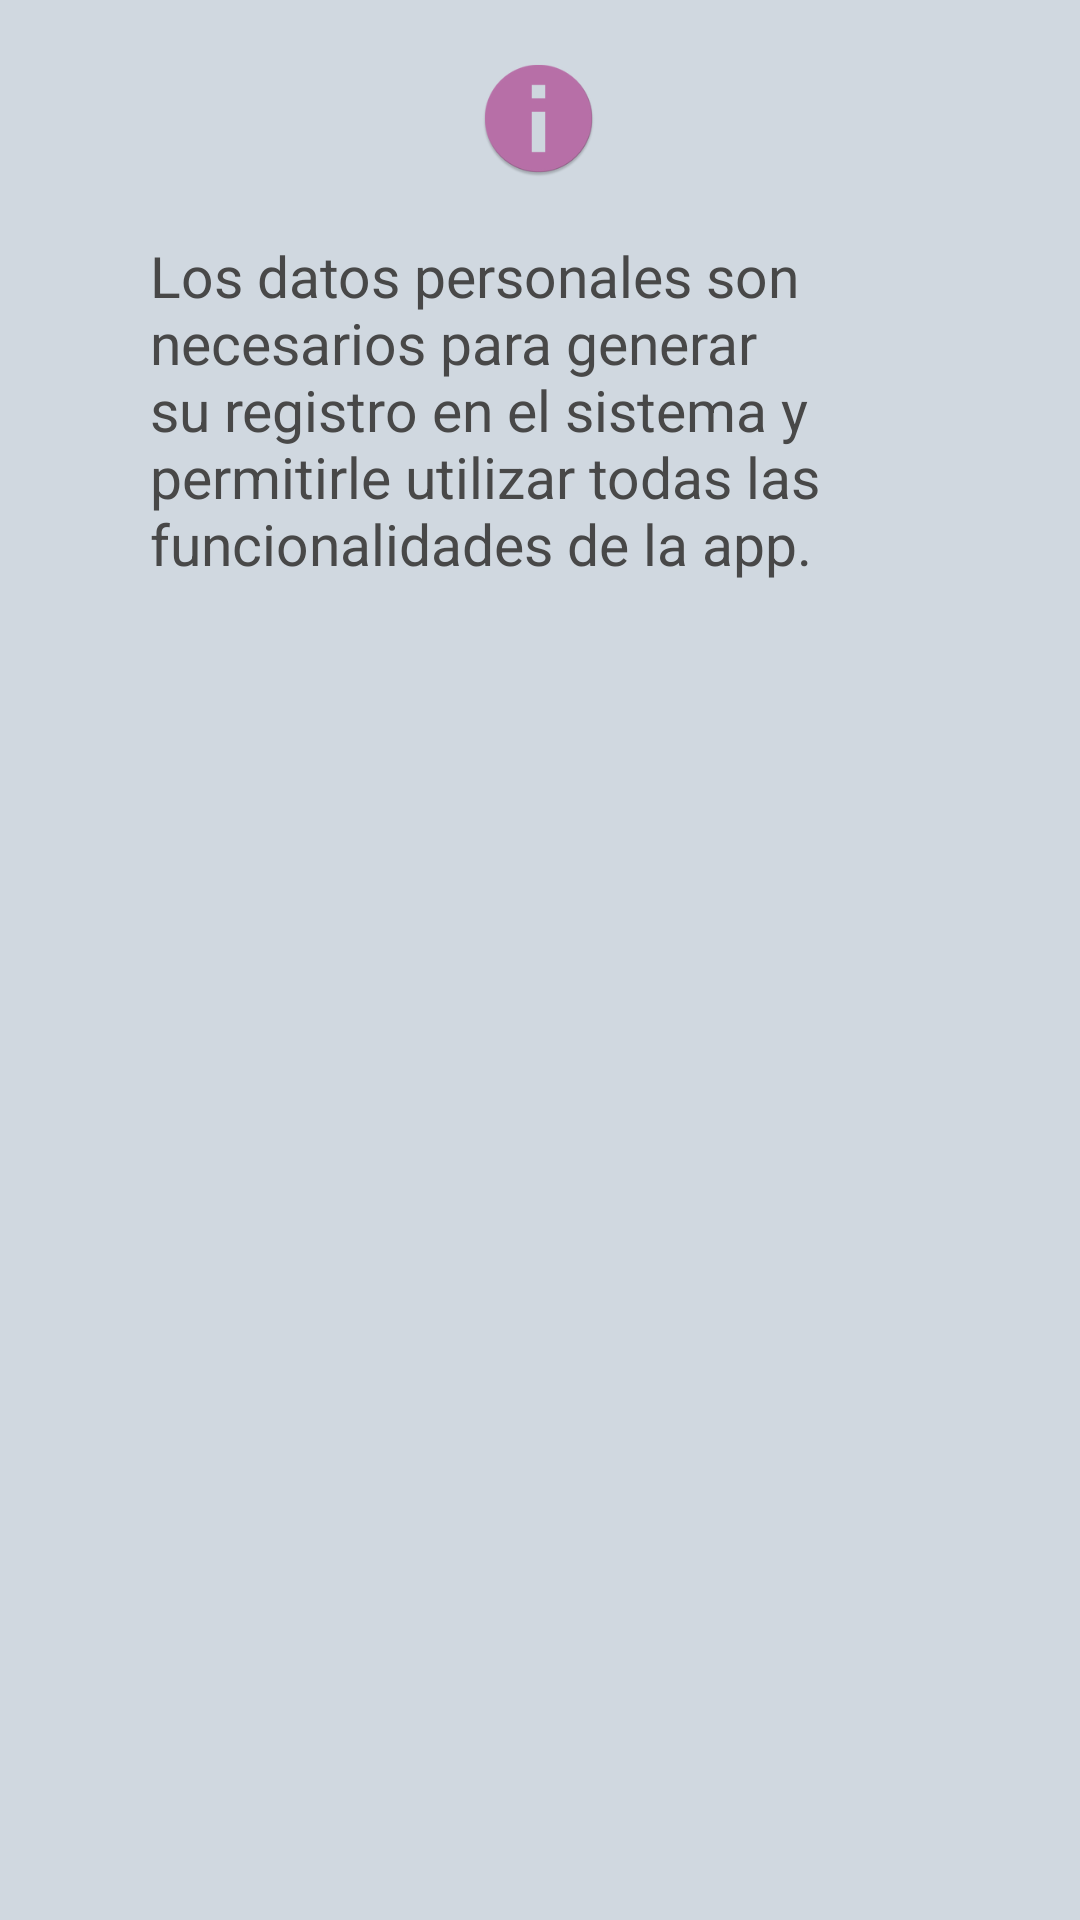

Named icons in this screenshot (1080x1920) and their bounding boxes, (x1, y1, x2, y2):
informacion: (485, 65, 593, 175)
